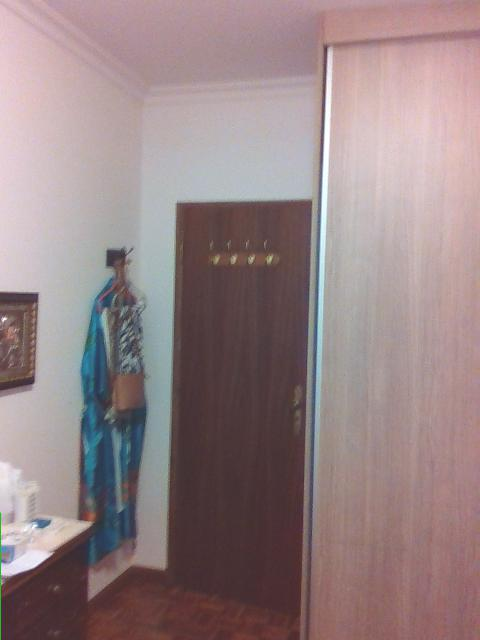closed_door: (166, 199, 314, 615)
